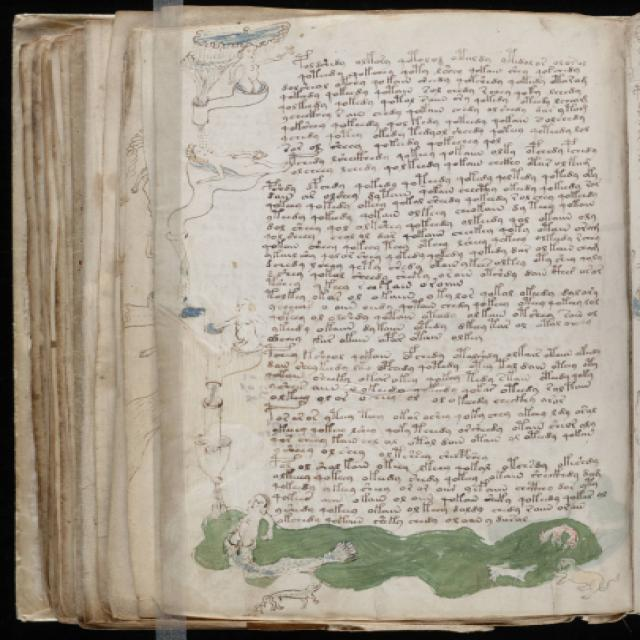person: (180, 142, 295, 188), (219, 44, 300, 99), (209, 290, 274, 356), (224, 488, 277, 567)
